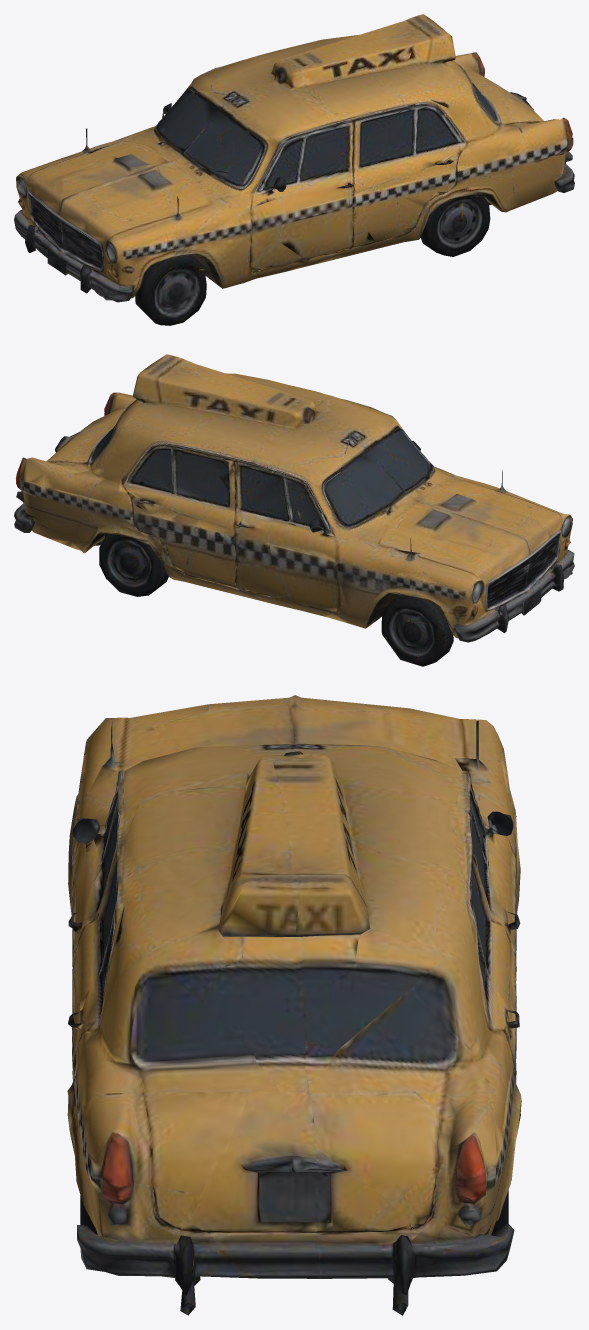
The model's file is car_taxi_light_q3.glb.
The picture shows the model from 3 angles, top to bottom: view 1: azimuth 30°, elevation 25°; view 2: azimuth 150°, elevation 25°; view 3: azimuth 270°, elevation 25°; orthographic projection. The views are drawn at different scales.
Bounding box in the file's own units: 4.01 × 1.5 × 1.62.
1 material, 1 textured.
